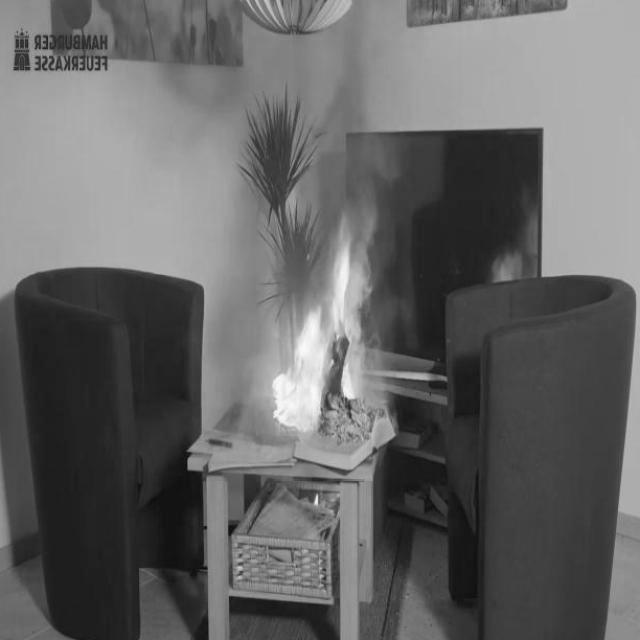fire: (285, 0, 402, 213)
smoke: (268, 204, 360, 438)
